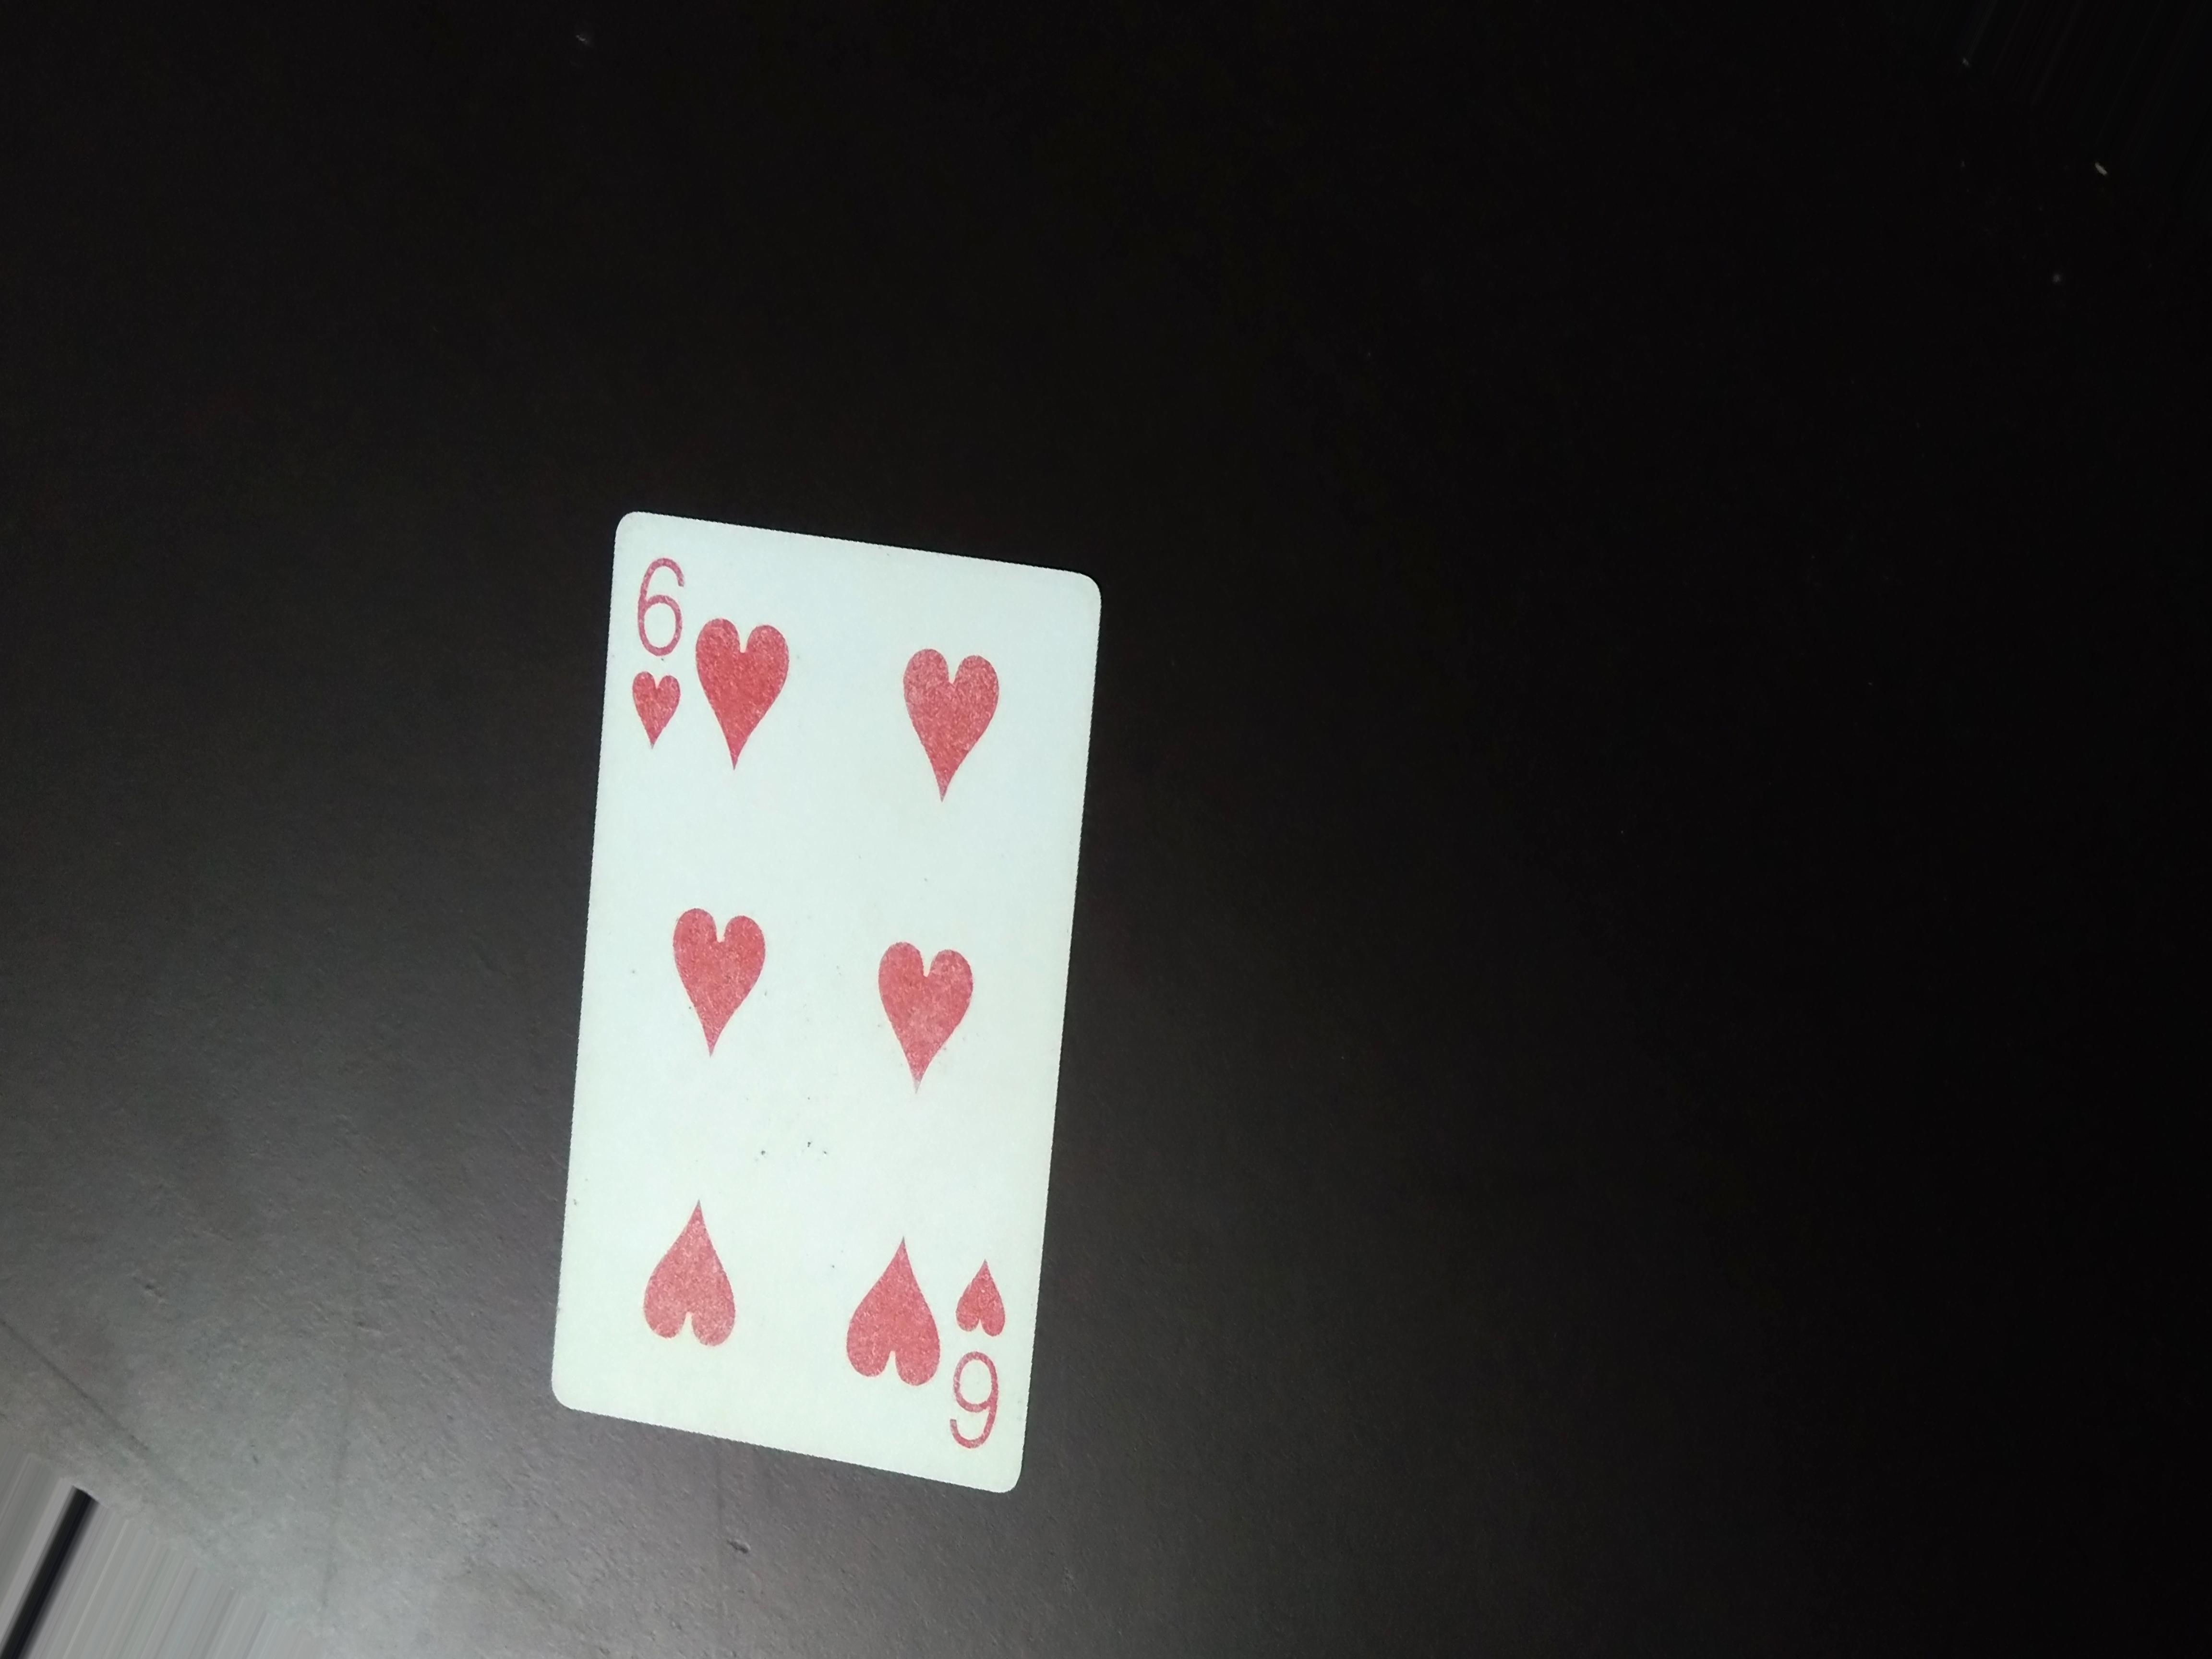6H: (946, 1225, 1010, 1457)
